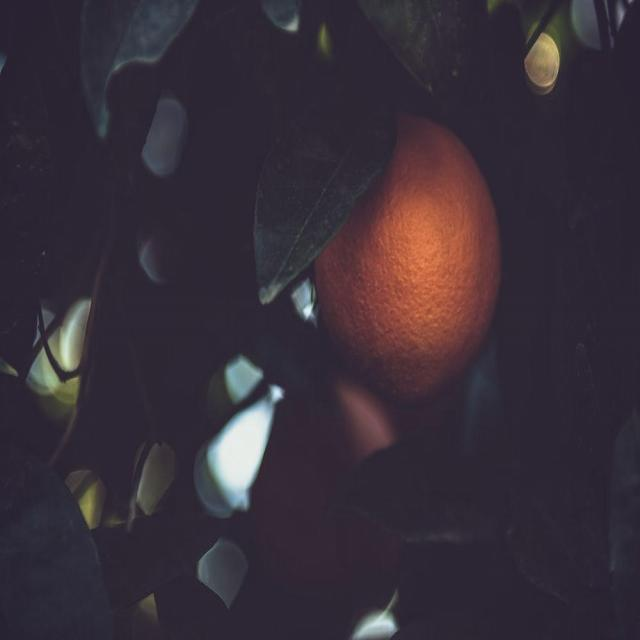Jeruk Sudah Matang: (308, 100, 500, 400)
